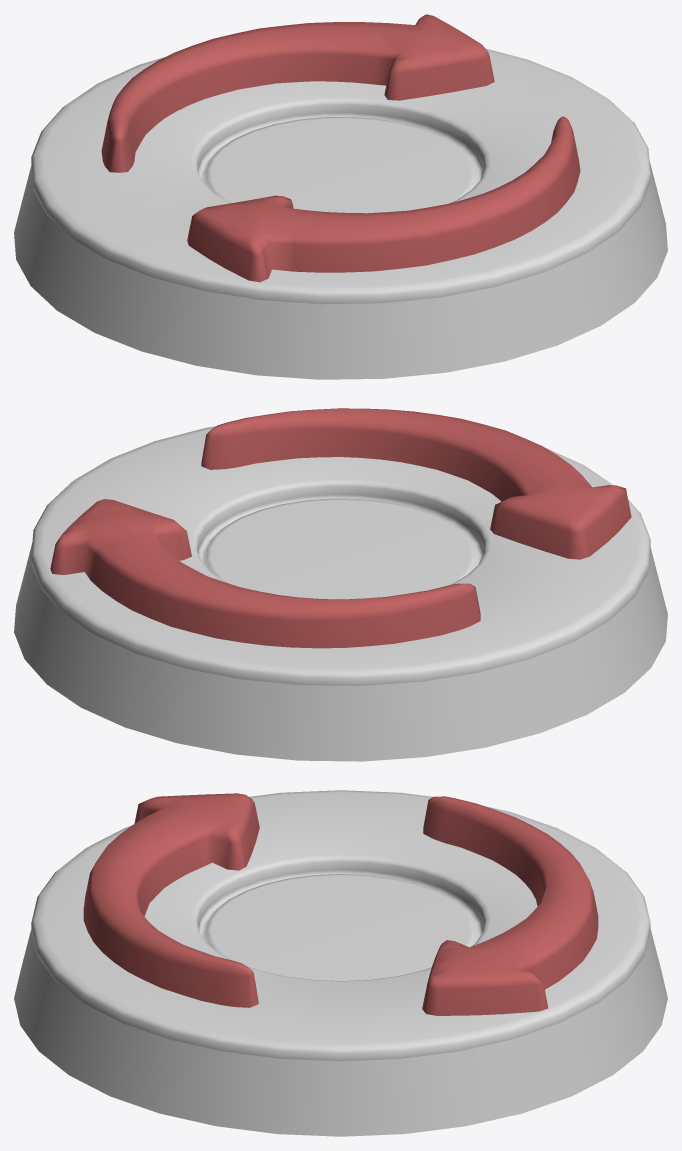
The model's file is Circle with arrow2 1.fbx.
The picture shows the model from 3 angles, top to bottom: view 1: azimuth 30°, elevation 25°; view 2: azimuth 150°, elevation 25°; view 3: azimuth 270°, elevation 25°; orthographic projection.
Visible parts, largest first — view 1: Cylinder, Plane.005, Plane; view 2: Cylinder, Plane.005, Plane; view 3: Cylinder, Plane, Plane.005.
Boxes of the visible parts, <box> form: Cylinder: <box>14,48,667,379</box>; Plane.005: <box>187,116,580,282</box>; Plane: <box>101,14,494,172</box>; Cylinder: <box>14,426,667,761</box>; Plane.005: <box>201,408,631,559</box>; Plane: <box>50,499,480,648</box>; Cylinder: <box>14,790,667,1136</box>; Plane: <box>422,796,598,1015</box>; Plane.005: <box>83,793,259,1007</box>.
Bounding box in the file's own units: 1.6 × 0.32 × 1.6.
